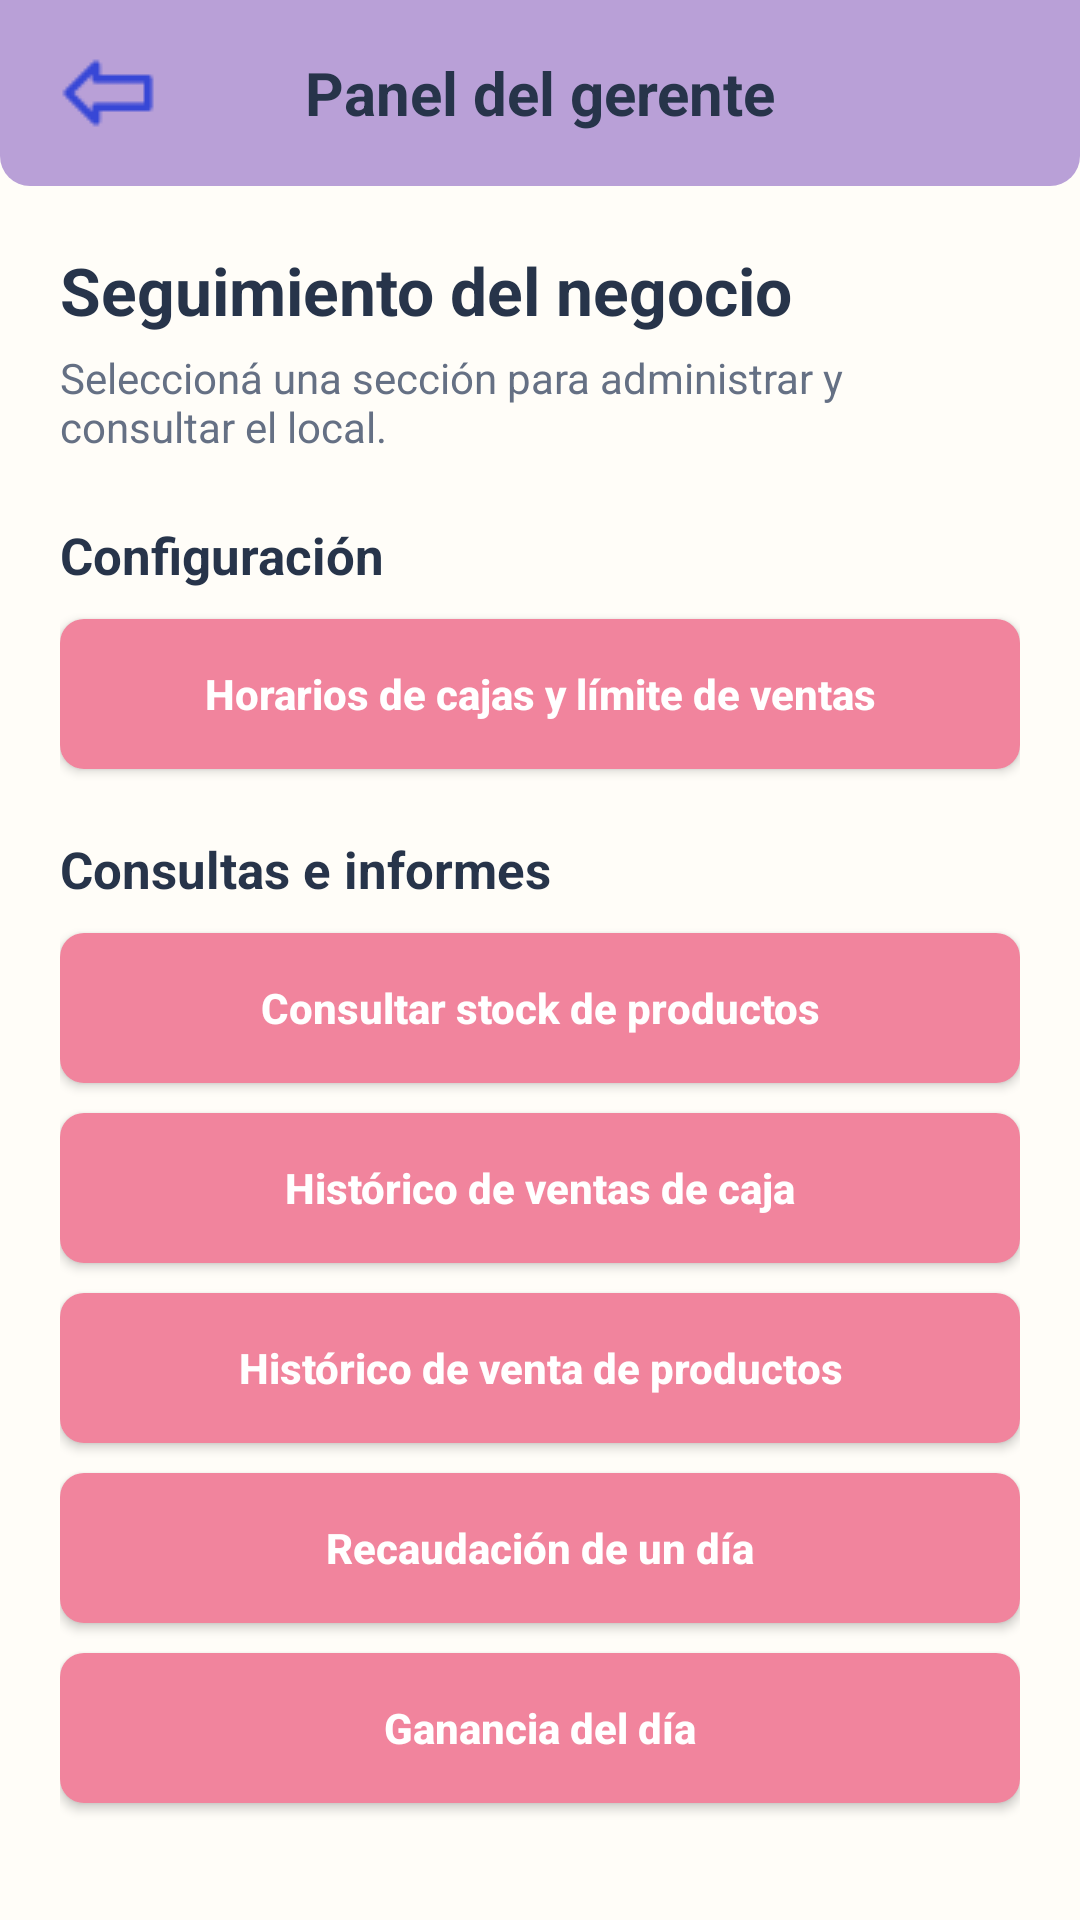

Named icons in this screenshot (1080 x 1920) and their centers, (x,y):
Volver: (108,93)
